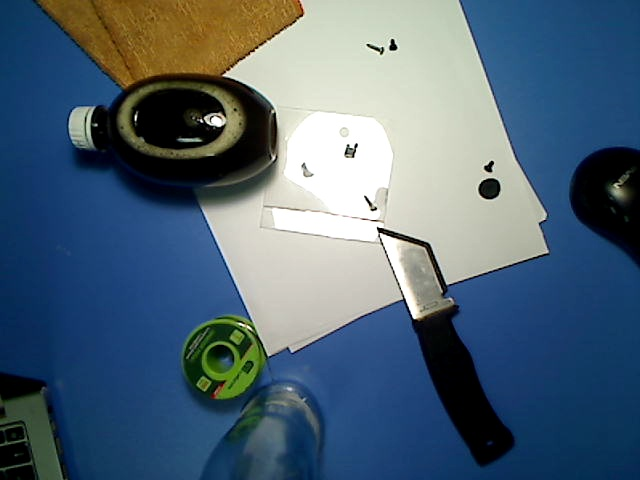plast_bottle: (66, 70, 281, 191)
